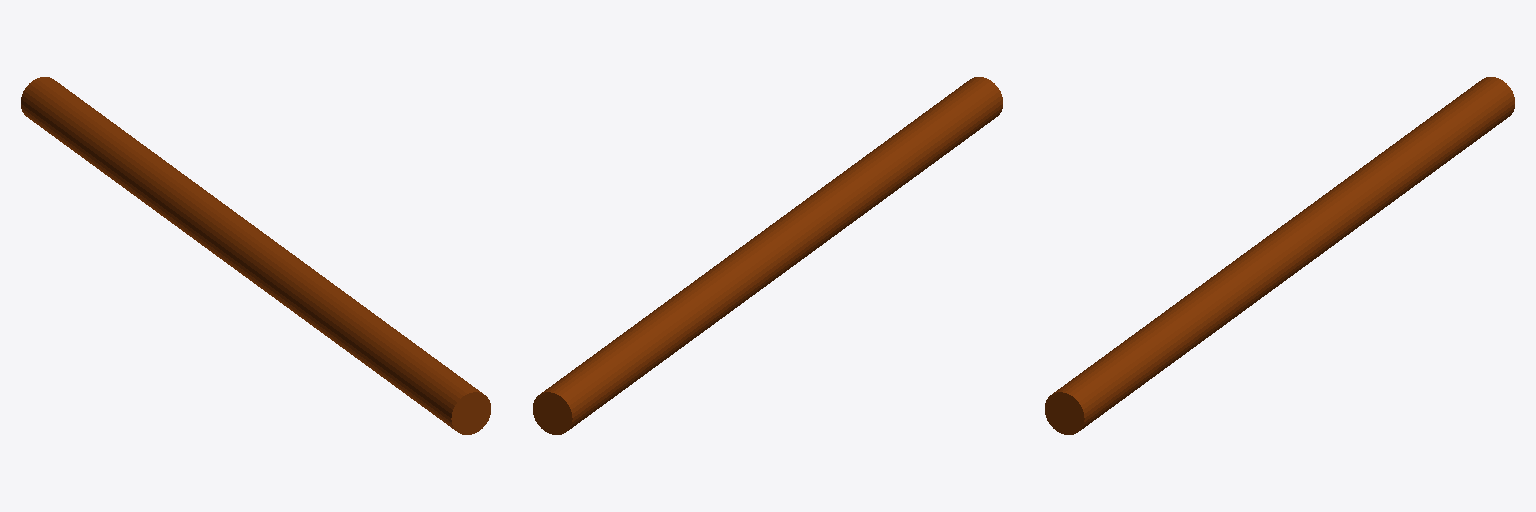
The robot description file, URDF, robot "cylinder":
<?xml version="1.0" ?>
<!-- =================================================================================== -->
<!-- |    This document was autogenerated by xacro from cylinder.xacro                 | -->
<!-- |    EDITING THIS FILE BY HAND IS NOT RECOMMENDED                                 | -->
<!-- =================================================================================== -->
<robot name="cylinder">
  <link name="world"/>
  <link name="base">
    <visual>
      <origin rpy="1.57079633 0 0" xyz="0 0 0"/>
      <geometry>
        <cylinder length="7.07106781185" radius="0.19"/>
      </geometry>
      <material name="cylinder_material">
        <color rgba="0.545 0.271 0.075 1.0"/>
        <texture filename="../textures/tree_bark.jpg"/>
      </material>
    </visual>
    <collision>
      <origin rpy="1.57079633 0 0" xyz="0 0 0"/>
      <geometry>
        <cylinder length="7.07106781185" radius="0.19"/>
      </geometry>
    </collision>
    <inertial>
      <origin rpy="0 0 0" xyz="0 0 0"/>
      <mass value="1"/>
      <inertia ixx="4.1756916666484285" ixy="0.0" ixz="0.0" iyy="4.1756916666484285" iyz="0.0" izz="24.999999999890573"/>
    </inertial>
  </link>
  <joint name="base_joint" type="fixed">
    <parent link="world"/>
    <child link="base"/>
    <origin rpy="0 0 0" xyz="0.0 0.0 0.0"/>
  </joint>
</robot>

--- What the picture shows (computed from the rendered views, not written in the file) ---
The picture shows the robot from 3 angles, left to right: view 1: azimuth 30°, elevation 25°; view 2: azimuth 150°, elevation 25°; view 3: azimuth 330°, elevation 25°; orthographic projection.
Robot: cylinder — 2 links, 1 joints (1 fixed); root link world; default pose: every joint at zero.
Links seen in each view (by area): view 1: base; view 2: base; view 3: base.
Link boxes in pixels (bbox=[...]): base: bbox=[21, 77, 490, 434]; base: bbox=[533, 77, 1002, 434]; base: bbox=[1045, 77, 1514, 434].
Size in the robot's own frame: 0.38 by 7.07 by 0.38 metres.
Geometry: primitives only (box / cylinder / sphere), no mesh files.
